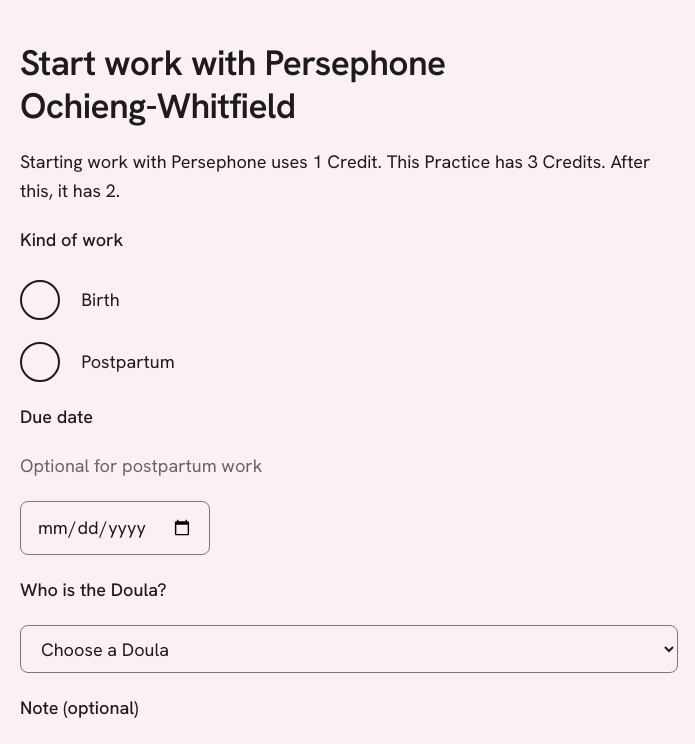
Test: the Engagement Request screen › Who is the Doula? › refuses the submit until she chooses, at a Practice with several Doulas
The image size is (695, 744).
Expected: the heading "Start work with Persephone Ochieng-Whitfield" is shown, [20,40,446,129]
Click the radio button labelled "Postpartum". click: (40, 362)
box: [20,342,60,382]
(page scrolled)
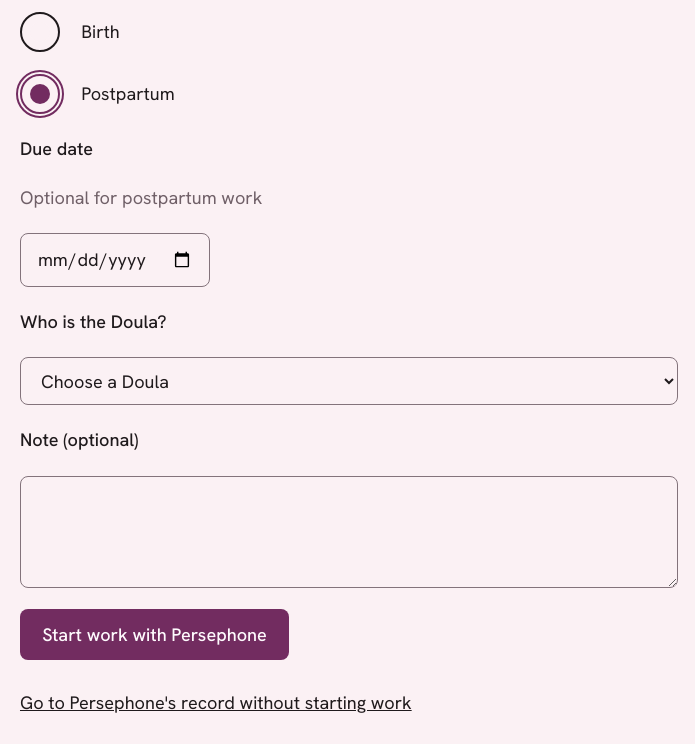
Click the button "Start work with Persephone". click: (155, 635)
box: [20,609,289,660]
(page scrolled)
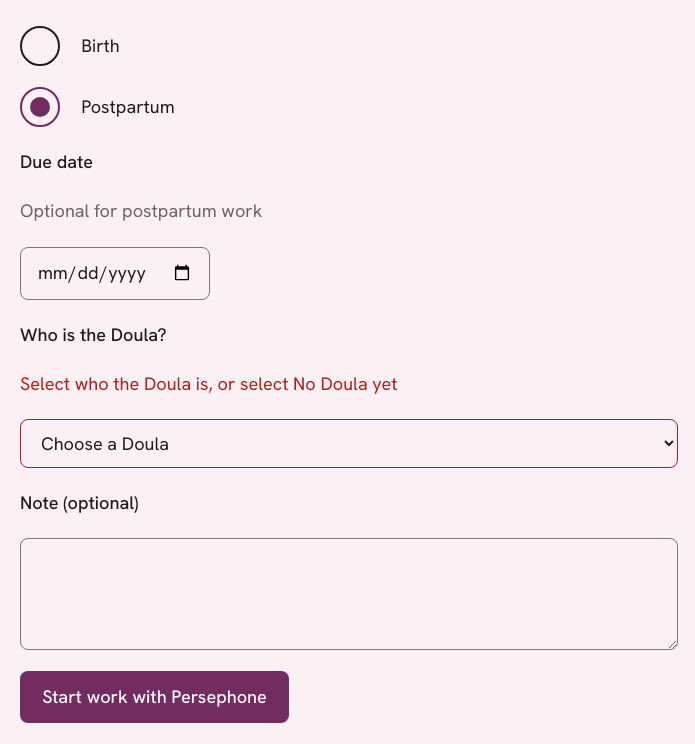
Now the message reads "Select who the Doula is, or select No Doula yet", box [20,372,398,395]
